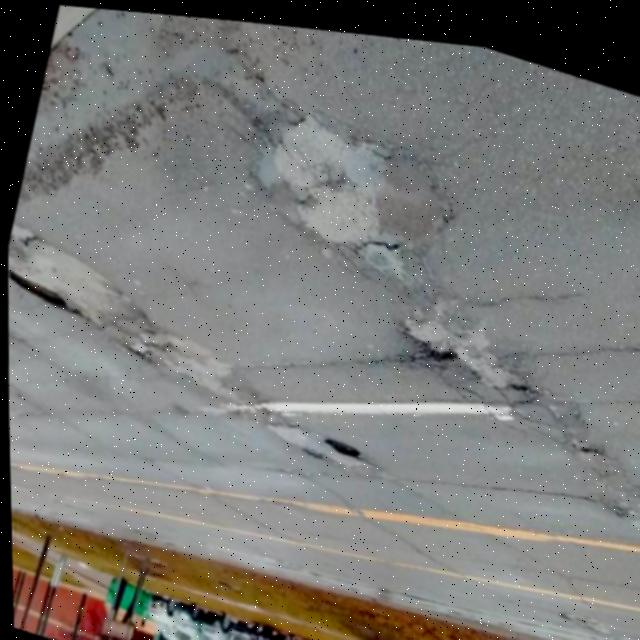Pothole: (249, 86, 438, 263), (5, 257, 87, 328), (396, 297, 466, 375), (492, 345, 541, 406), (119, 314, 166, 370), (556, 415, 607, 461), (314, 417, 364, 460)
